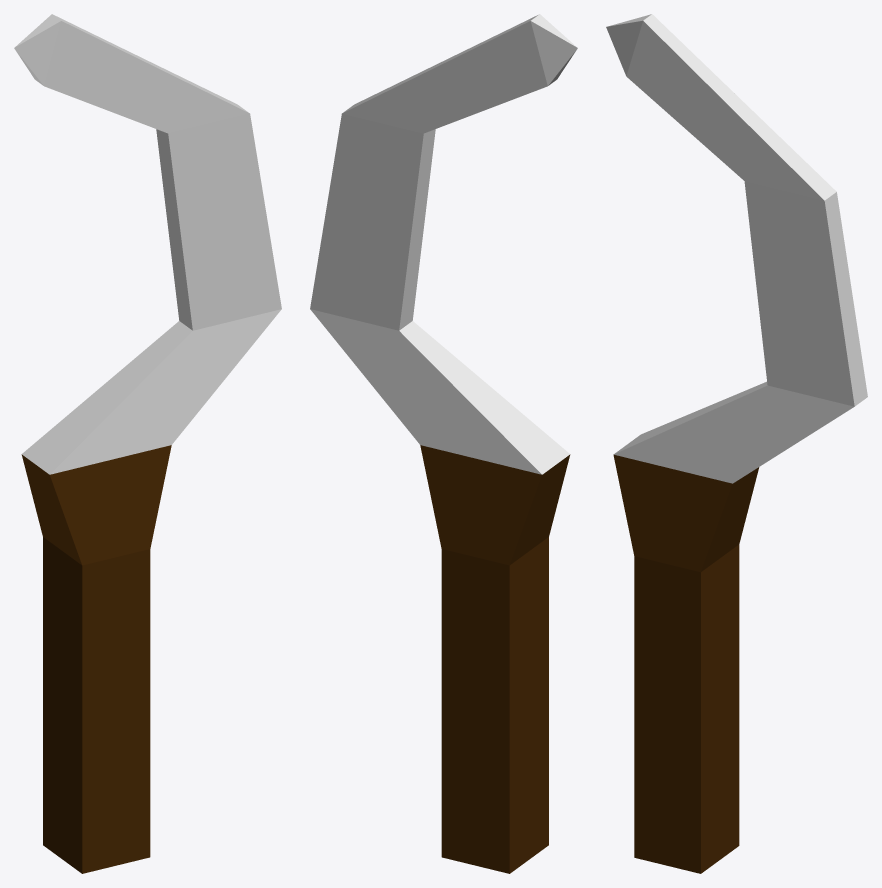
The model's file is sickle.glb.
3 renders of one model, left to right at view 1: azimuth 30°, elevation 25°; view 2: azimuth 150°, elevation 25°; view 3: azimuth 330°, elevation 25°, orthographic. The views are drawn at different scales.
Visible parts, largest first — view 1: Cube; view 2: Cube; view 3: Cube.
Boxes of the visible parts, bbox=[...] form: Cube: bbox=[14, 14, 281, 873]; Cube: bbox=[310, 14, 577, 873]; Cube: bbox=[606, 14, 867, 873].
Bounding box in the file's own units: 0.4194 × 1.29 × 0.1095.
